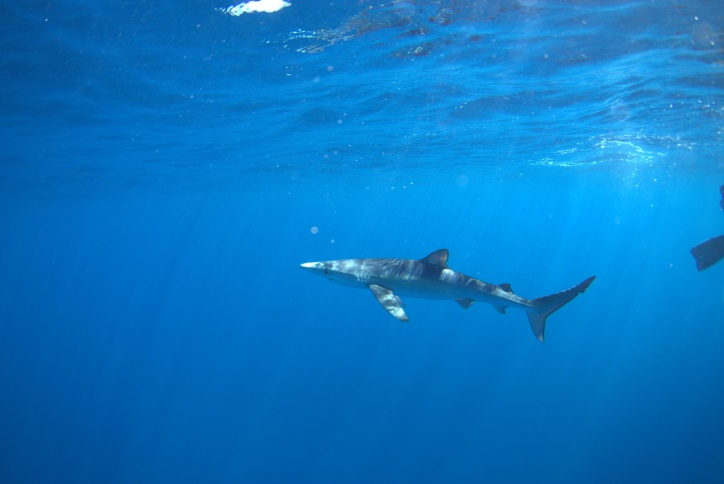Azul: (290, 235, 622, 367)
